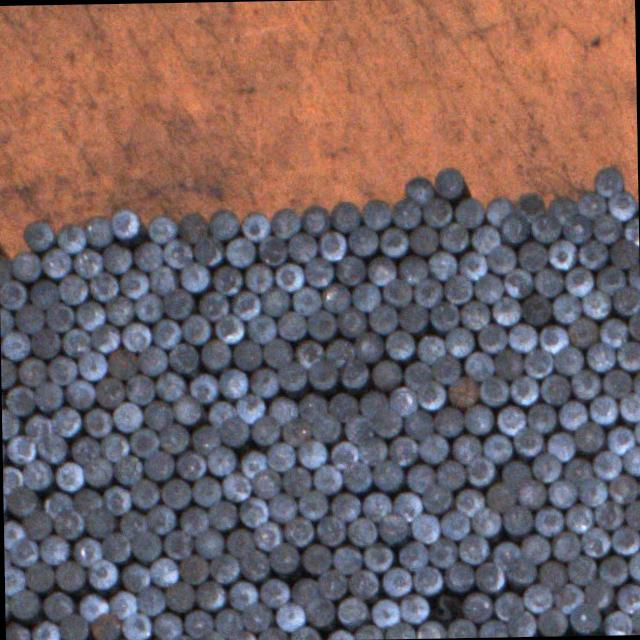tool: (490, 444, 540, 491), (396, 452, 448, 496), (110, 549, 157, 597), (12, 398, 62, 443), (20, 266, 66, 312), (111, 500, 156, 541), (514, 238, 548, 272), (80, 403, 113, 438), (476, 373, 510, 406), (172, 448, 205, 481), (338, 358, 371, 391), (396, 300, 429, 333), (432, 165, 465, 198), (596, 552, 628, 586), (38, 486, 72, 518), (495, 402, 529, 434), (268, 206, 302, 238), (174, 210, 210, 240), (461, 590, 494, 622), (53, 559, 86, 591), (70, 532, 102, 565), (100, 481, 132, 514), (159, 528, 192, 560), (191, 526, 224, 558), (376, 512, 409, 544), (515, 478, 548, 510), (462, 348, 494, 381), (520, 292, 552, 325), (344, 224, 377, 256), (94, 375, 126, 408), (247, 366, 280, 398), (107, 346, 139, 379), (336, 595, 370, 626), (344, 516, 378, 547), (208, 206, 239, 240), (40, 243, 70, 278), (536, 557, 568, 589), (38, 532, 70, 564), (268, 542, 300, 574), (330, 542, 362, 574), (458, 532, 490, 564), (450, 432, 482, 464), (508, 374, 540, 406), (608, 524, 640, 556), (587, 392, 619, 424), (492, 346, 524, 378), (501, 266, 533, 298), (44, 300, 76, 332), (216, 366, 248, 398), (35, 432, 68, 463), (299, 540, 330, 573), (352, 330, 385, 361), (275, 309, 306, 342), (594, 262, 627, 293), (388, 196, 421, 227), (77, 348, 108, 381), (109, 205, 140, 238), (314, 512, 344, 546), (140, 398, 174, 428), (333, 306, 367, 336), (472, 270, 502, 304), (562, 265, 596, 295), (454, 248, 488, 278), (606, 236, 640, 266), (330, 199, 360, 233), (198, 338, 232, 368), (85, 558, 116, 590), (176, 505, 208, 536), (361, 490, 392, 522), (391, 491, 423, 522), (158, 477, 190, 508), (372, 459, 404, 490), (461, 402, 493, 433), (544, 430, 576, 461), (557, 398, 588, 430), (306, 359, 338, 390), (536, 323, 568, 354), (364, 253, 396, 284), (230, 339, 262, 370), (120, 320, 151, 352), (118, 267, 150, 298), (380, 566, 413, 596), (361, 542, 394, 572), (438, 508, 471, 538), (328, 490, 361, 520), (534, 504, 564, 537), (291, 338, 324, 368), (383, 326, 413, 359), (598, 314, 628, 347), (407, 222, 437, 255), (22, 217, 52, 250), (160, 288, 193, 318), (210, 264, 243, 294), (294, 438, 328, 467), (52, 459, 83, 490), (484, 481, 515, 512), (238, 449, 269, 480), (289, 285, 320, 316), (593, 164, 624, 195), (3, 384, 34, 415), (369, 598, 401, 628), (568, 603, 600, 633), (552, 582, 584, 612), (442, 561, 474, 591), (24, 560, 54, 592), (100, 530, 130, 562), (54, 507, 84, 539), (6, 484, 36, 516), (68, 434, 100, 464), (128, 530, 160, 560), (253, 520, 283, 552), (282, 516, 314, 546), (502, 504, 534, 534), (144, 502, 174, 534), (250, 468, 282, 498), (282, 465, 312, 497), (110, 454, 142, 484), (204, 445, 236, 475), (128, 426, 158, 458), (188, 422, 220, 452), (250, 414, 280, 446), (110, 401, 142, 431), (234, 392, 264, 424), (266, 393, 298, 423), (446, 376, 478, 406), (564, 502, 594, 534), (546, 478, 578, 508), (576, 476, 608, 506), (607, 472, 639, 502), (530, 451, 562, 481), (573, 420, 605, 450), (584, 340, 616, 370), (522, 346, 554, 376), (274, 360, 306, 390), (370, 358, 400, 390), (400, 358, 430, 390), (262, 338, 292, 370), (322, 337, 354, 367), (567, 316, 599, 346), (367, 302, 397, 334), (258, 286, 290, 316), (348, 282, 380, 312), (382, 276, 412, 308), (442, 272, 472, 304), (426, 248, 456, 280), (257, 234, 287, 266), (530, 212, 562, 242), (300, 202, 330, 234), (360, 196, 390, 228), (88, 322, 120, 352), (12, 302, 44, 332), (84, 214, 114, 246), (70, 247, 102, 277), (102, 241, 132, 273), (151, 316, 181, 348), (214, 312, 244, 344), (228, 290, 260, 320), (223, 236, 255, 266), (238, 210, 270, 240), (400, 593, 430, 624), (42, 590, 73, 620), (412, 563, 442, 594), (474, 560, 504, 591), (396, 540, 427, 570), (427, 538, 458, 568), (471, 506, 502, 536), (238, 495, 268, 526), (190, 475, 221, 505), (264, 441, 295, 471), (388, 434, 418, 465), (418, 432, 448, 463), (513, 426, 544, 456), (158, 422, 188, 453), (432, 406, 463, 436), (328, 390, 358, 421), (388, 384, 418, 415), (550, 530, 580, 561), (552, 344, 583, 374), (431, 353, 462, 383), (443, 326, 474, 356), (476, 322, 506, 353), (459, 298, 489, 329), (490, 295, 520, 326), (581, 288, 611, 319), (412, 276, 443, 306), (533, 266, 564, 296), (302, 257, 333, 287), (332, 254, 363, 284), (486, 243, 516, 274), (547, 238, 577, 269), (377, 226, 408, 256), (499, 211, 529, 242), (561, 212, 592, 242), (420, 195, 450, 226), (63, 379, 94, 409), (1, 329, 31, 360), (59, 327, 90, 357), (74, 300, 105, 330), (56, 221, 86, 252), (179, 312, 209, 343), (178, 261, 209, 291), (243, 262, 274, 292), (132, 239, 162, 270), (192, 235, 223, 265), (22, 510, 54, 539), (207, 499, 239, 528), (142, 451, 174, 480), (540, 374, 572, 403), (576, 239, 608, 268), (46, 354, 78, 383), (89, 612, 122, 640), (193, 580, 226, 608), (122, 610, 152, 640), (242, 601, 272, 631), (274, 600, 304, 630), (304, 596, 334, 626), (228, 580, 258, 610), (316, 568, 346, 598), (566, 553, 596, 583), (85, 506, 115, 536), (72, 484, 102, 514), (82, 456, 112, 486), (52, 406, 82, 436), (148, 556, 178, 586), (178, 554, 208, 584), (239, 550, 269, 580), (422, 484, 452, 514), (454, 486, 484, 516), (343, 462, 373, 492), (434, 458, 464, 488), (328, 439, 358, 469), (482, 432, 512, 462), (298, 391, 328, 421), (519, 534, 549, 564), (579, 526, 609, 556), (592, 450, 622, 480), (604, 424, 634, 454), (600, 368, 630, 398), (414, 332, 444, 362), (506, 321, 536, 351), (429, 300, 459, 330), (551, 292, 581, 322), (286, 232, 316, 262), (438, 222, 468, 252), (592, 212, 622, 242), (606, 190, 636, 220), (402, 174, 432, 204), (34, 382, 64, 412), (30, 328, 60, 358), (58, 274, 88, 304), (11, 250, 41, 280), (154, 370, 184, 400), (246, 314, 276, 344), (198, 290, 228, 320), (147, 212, 177, 242), (23, 459, 54, 488), (219, 415, 248, 446), (305, 308, 334, 339), (396, 253, 427, 282), (182, 608, 214, 636), (346, 568, 378, 596), (138, 344, 166, 376), (153, 610, 182, 640), (212, 606, 242, 635), (289, 574, 318, 604), (583, 577, 613, 606), (10, 536, 39, 566), (5, 433, 35, 462), (209, 554, 239, 583), (410, 512, 439, 542), (296, 489, 326, 518), (130, 477, 160, 506), (312, 464, 342, 493), (98, 432, 128, 461), (403, 409, 433, 438), (172, 395, 202, 424), (358, 387, 388, 416), (594, 500, 623, 530), (611, 284, 640, 314), (316, 230, 345, 260), (483, 196, 512, 226), (17, 356, 46, 386), (187, 372, 216, 402), (148, 264, 178, 293), (162, 238, 192, 267), (9, 588, 40, 616), (77, 592, 108, 620), (537, 608, 568, 636), (356, 436, 387, 464), (274, 261, 302, 292), (468, 224, 499, 252), (87, 271, 118, 299), (416, 379, 445, 408), (571, 369, 600, 398), (453, 197, 482, 226), (108, 588, 136, 618), (136, 586, 166, 614), (164, 582, 194, 610), (258, 578, 288, 606), (493, 590, 523, 618), (266, 492, 296, 520), (222, 470, 250, 500), (372, 408, 402, 436), (562, 456, 592, 484), (526, 402, 556, 430), (516, 190, 546, 218), (126, 374, 154, 404), (168, 342, 196, 372), (104, 294, 132, 324), (505, 610, 536, 637), (613, 340, 640, 371), (322, 282, 349, 313), (504, 556, 536, 582), (60, 612, 89, 640), (522, 583, 550, 612), (224, 528, 252, 557), (465, 456, 494, 484), (282, 416, 310, 445), (311, 414, 340, 442), (344, 413, 372, 442), (547, 192, 576, 220), (132, 292, 161, 320), (0, 279, 27, 309), (614, 581, 640, 612), (206, 398, 234, 426), (578, 190, 606, 218), (602, 610, 632, 636), (492, 540, 520, 567), (617, 390, 640, 420), (31, 617, 60, 640), (3, 518, 25, 548), (477, 618, 508, 638), (2, 464, 23, 493), (4, 564, 24, 594), (622, 213, 639, 247), (448, 618, 476, 638), (622, 498, 640, 529), (5, 619, 31, 640), (386, 621, 416, 639), (416, 620, 446, 638), (1, 408, 19, 438), (621, 445, 640, 473), (355, 622, 384, 640), (0, 358, 16, 388), (257, 625, 288, 640), (288, 625, 319, 640), (324, 627, 354, 640), (628, 550, 640, 579), (0, 306, 12, 335), (0, 253, 11, 282), (630, 605, 640, 634)
tool_b: (429, 594, 462, 622)
